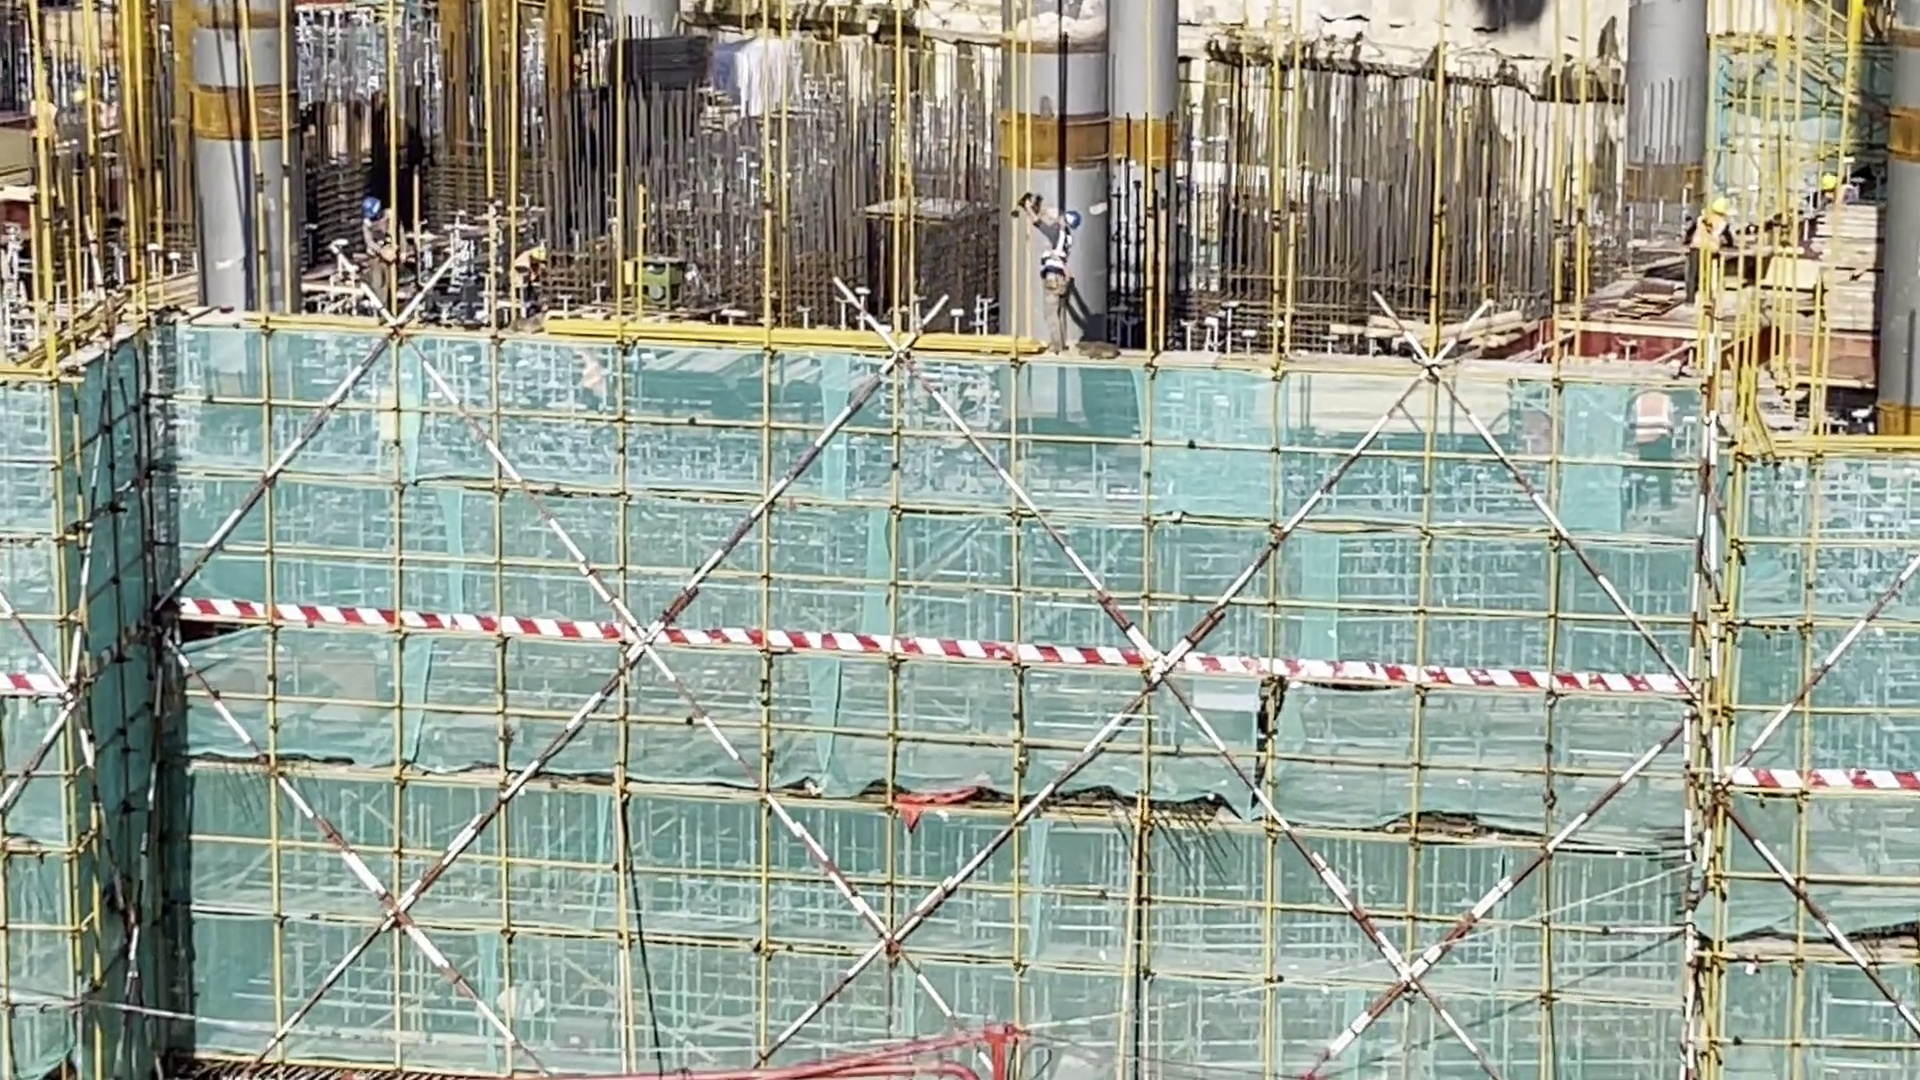helmet: (356, 194, 383, 219), (1712, 198, 1745, 215), (1063, 209, 1083, 231), (531, 252, 551, 271), (1828, 177, 1839, 189)
person: (1679, 193, 1758, 318), (1031, 198, 1081, 345), (366, 196, 409, 330), (506, 245, 543, 321), (1823, 181, 1866, 208)
vest: (1031, 246, 1079, 302), (1689, 216, 1731, 257), (373, 226, 404, 277), (511, 253, 538, 289), (1834, 189, 1857, 204)
